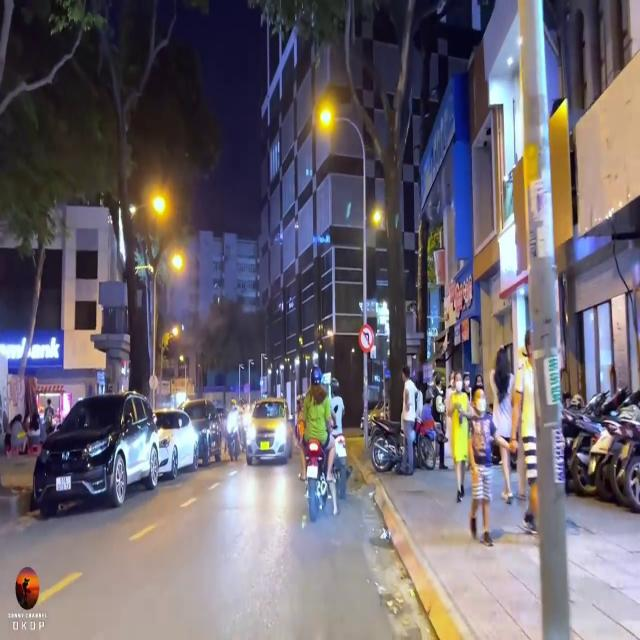bien_trang: (53, 476, 71, 494)
